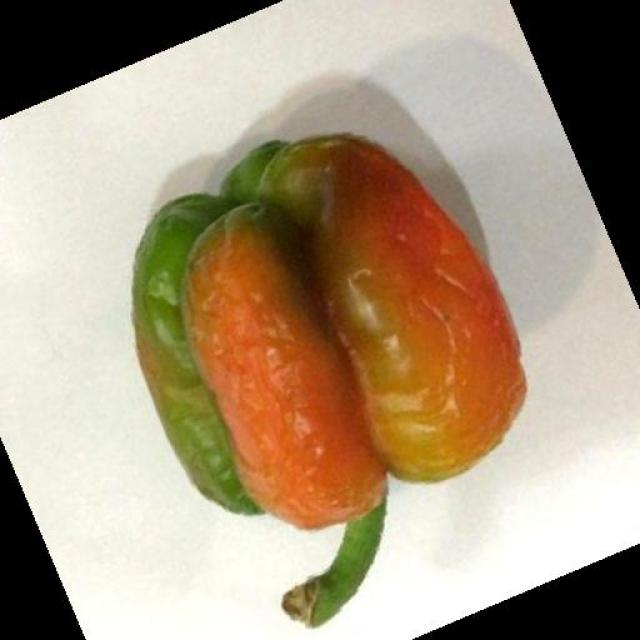Stale_Capsicum: (126, 176, 537, 592)
